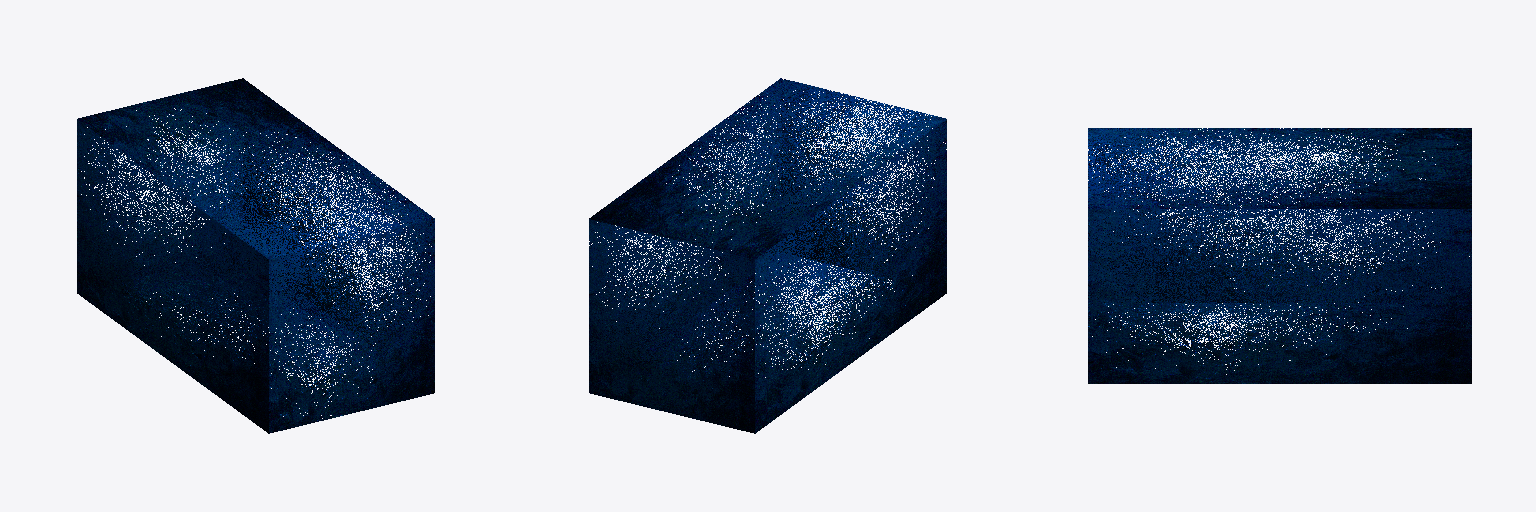
The picture shows the model from 3 angles: view 1: azimuth 30°, elevation 25°; view 2: azimuth 150°, elevation 25°; view 3: azimuth 270°, elevation 25°; orthographic projection.
Visible parts, largest first — view 1: MemoryCubeB.002; view 2: MemoryCubeB.002; view 3: MemoryCubeB.002.
Part boxes in pixels (bbox=[...]): MemoryCubeB.002: bbox=[77, 78, 434, 433]; MemoryCubeB.002: bbox=[589, 78, 946, 433]; MemoryCubeB.002: bbox=[1088, 128, 1471, 383].
Size of the model in its own units: 2 by 2 by 4.
1 materials, 1 textured.